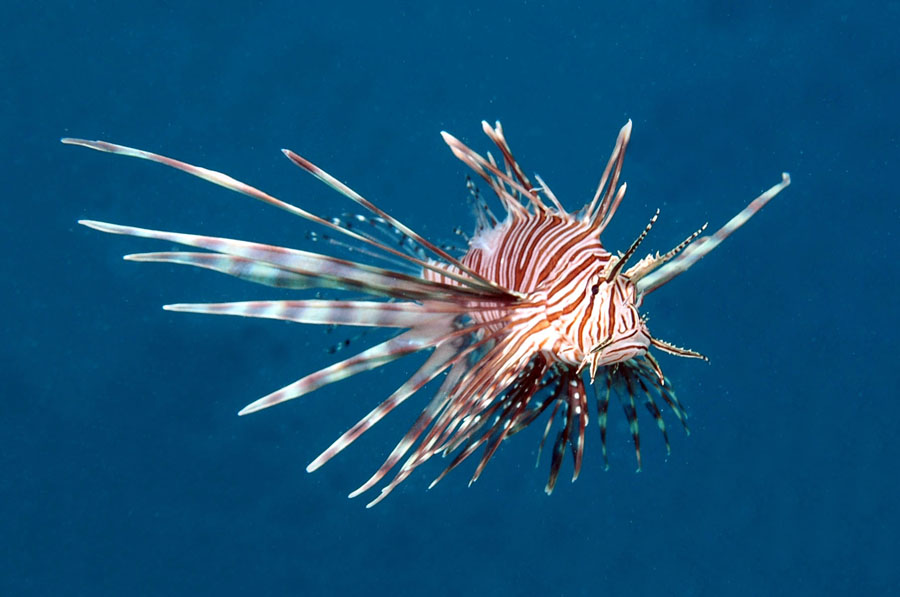Pterois_volitans: (44, 101, 804, 507)
